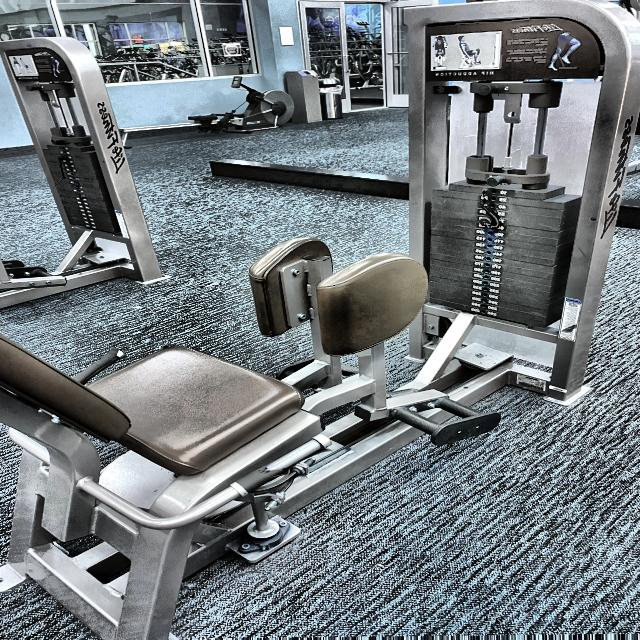hip_adduction_machine: (147, 233, 455, 471), (426, 22, 594, 82), (432, 68, 499, 76)
